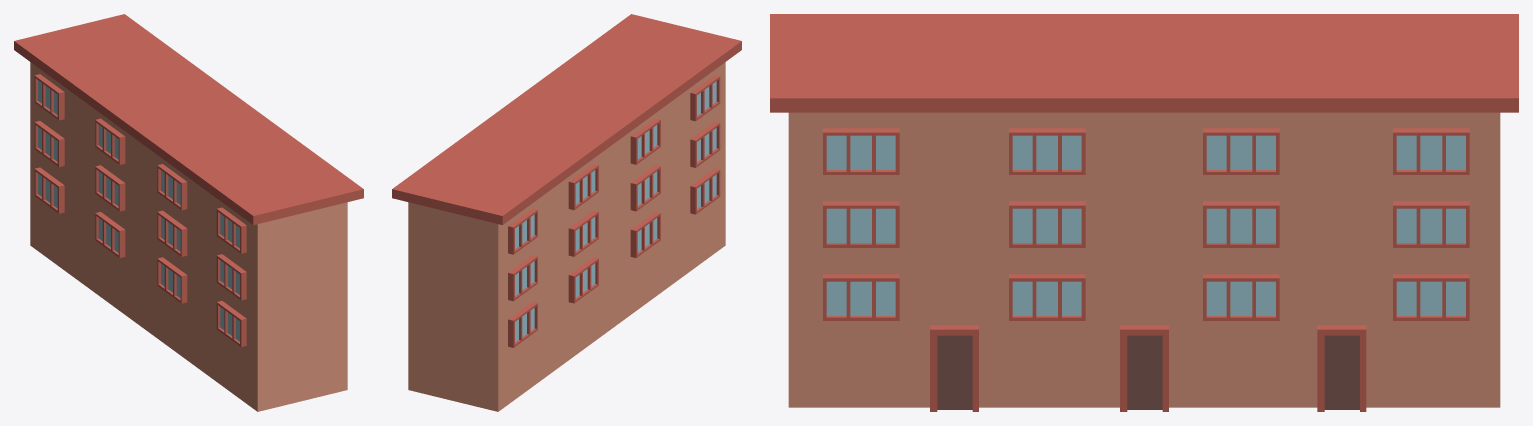
The model's file is 1_house.fbx.
The picture shows the model from 3 angles, left to right: view 1: azimuth 30°, elevation 25°; view 2: azimuth 150°, elevation 25°; view 3: azimuth 270°, elevation 25°; orthographic projection. The views are drawn at different scales.
Visible parts, largest first — view 1: Cube.025; view 2: Cube.025; view 3: Cube.025.
Boxes of the visible parts, left/top/right/bottom form: Cube.025: left=14, top=14, right=363, bottom=411; Cube.025: left=392, top=14, right=741, bottom=411; Cube.025: left=770, top=14, right=1518, bottom=411.
Size of the model in its own units: 173 by 303 by 648.
